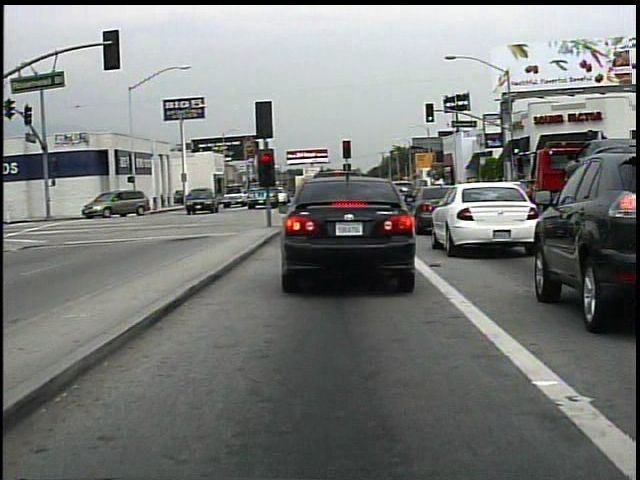person: (196, 183, 218, 208)
